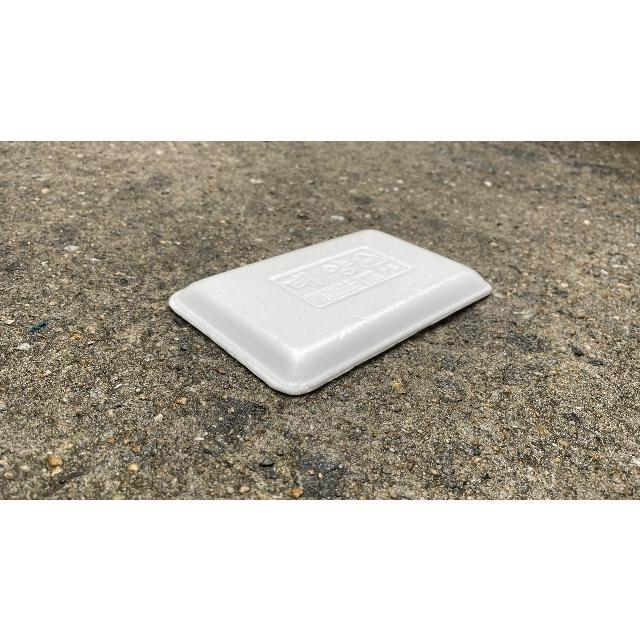Plastico descartable: (167, 230, 493, 399)
